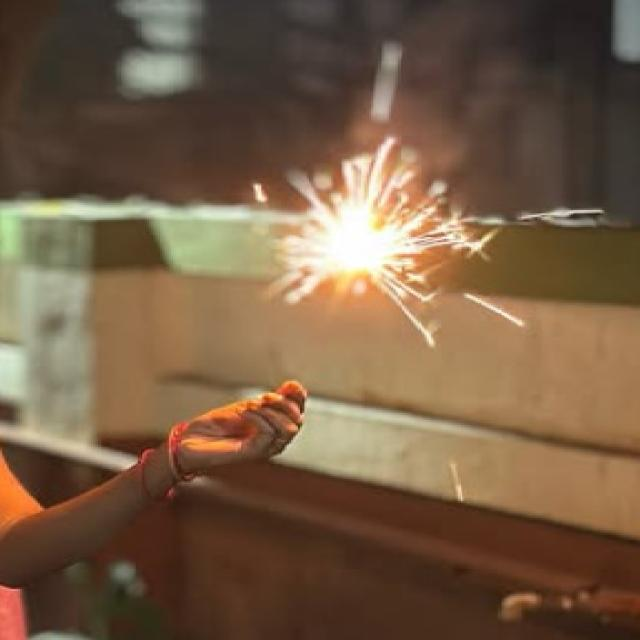fire: (282, 203, 422, 278)
